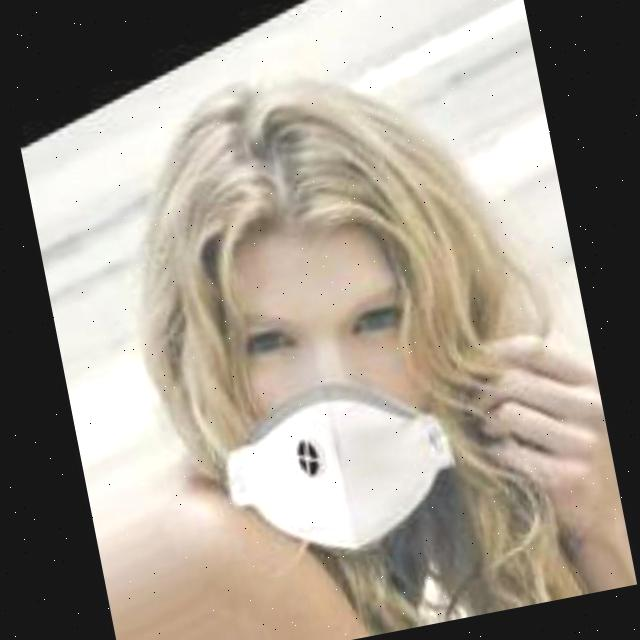suspicion: (72, 78, 502, 552)
